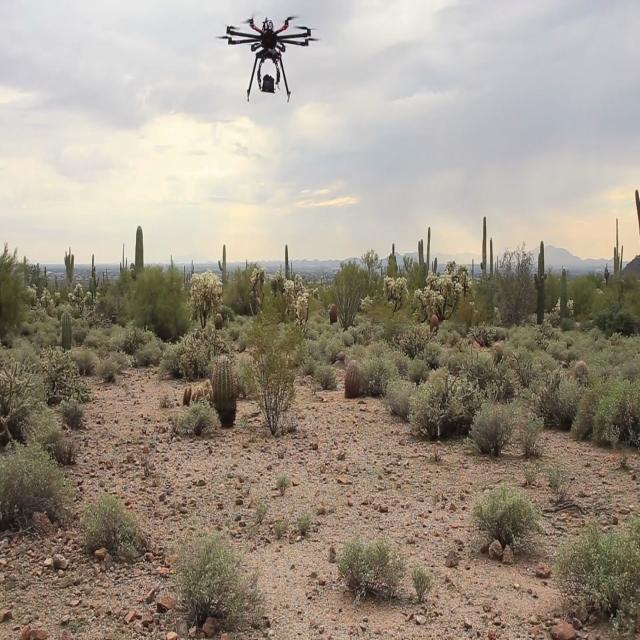drone: (216, 4, 320, 106)
